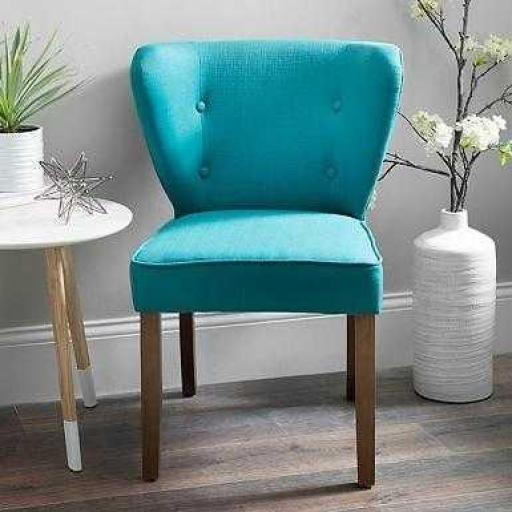chair: (120, 31, 413, 492)
